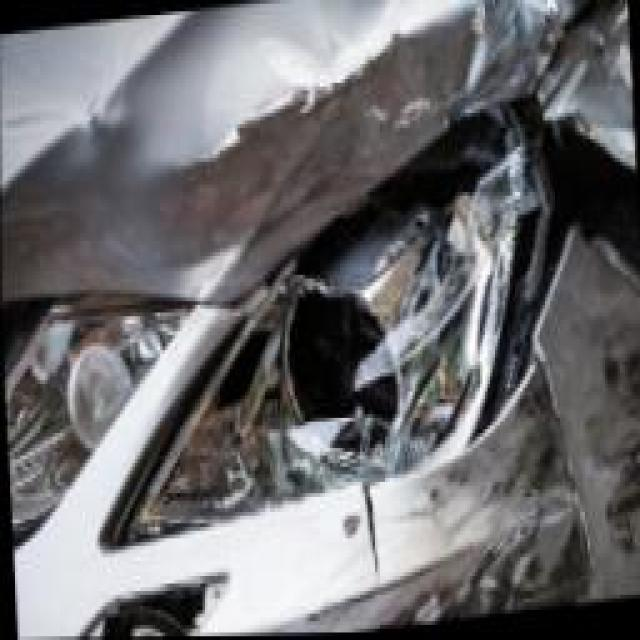Bonnet: (0, 0, 598, 304)
Fender: (531, 0, 640, 281)
Light: (93, 109, 569, 529)
